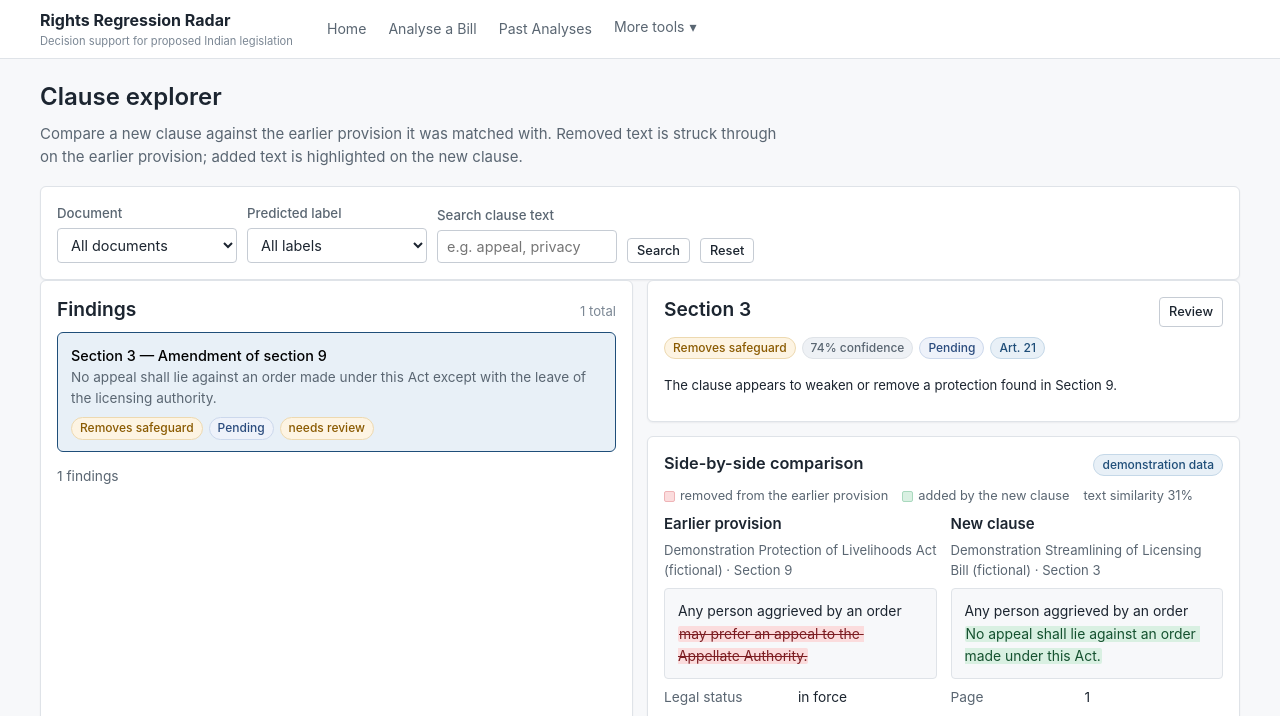
Test: clause explorer › filters by label and by search text
Check: the heading "Clause explorer" is shown, box [40,82,222,111]
Select "Conflicts" in the dropdown labelled "Predicted label" at {"x": 337, "y": 245}, box [247,228,427,263]
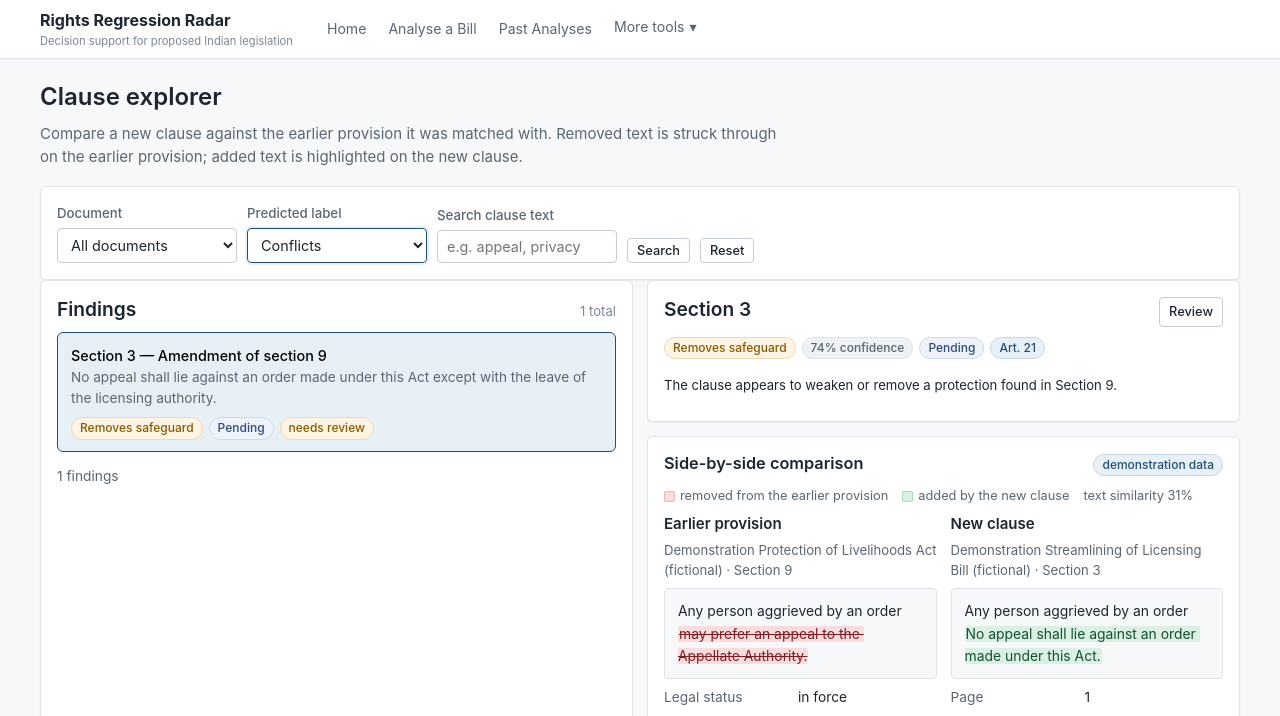
Type "zzzz-no-match" into the search field labelled "Search clause text".
click(527, 246); type("zzzz-no-match")  # box [437,230,617,263]
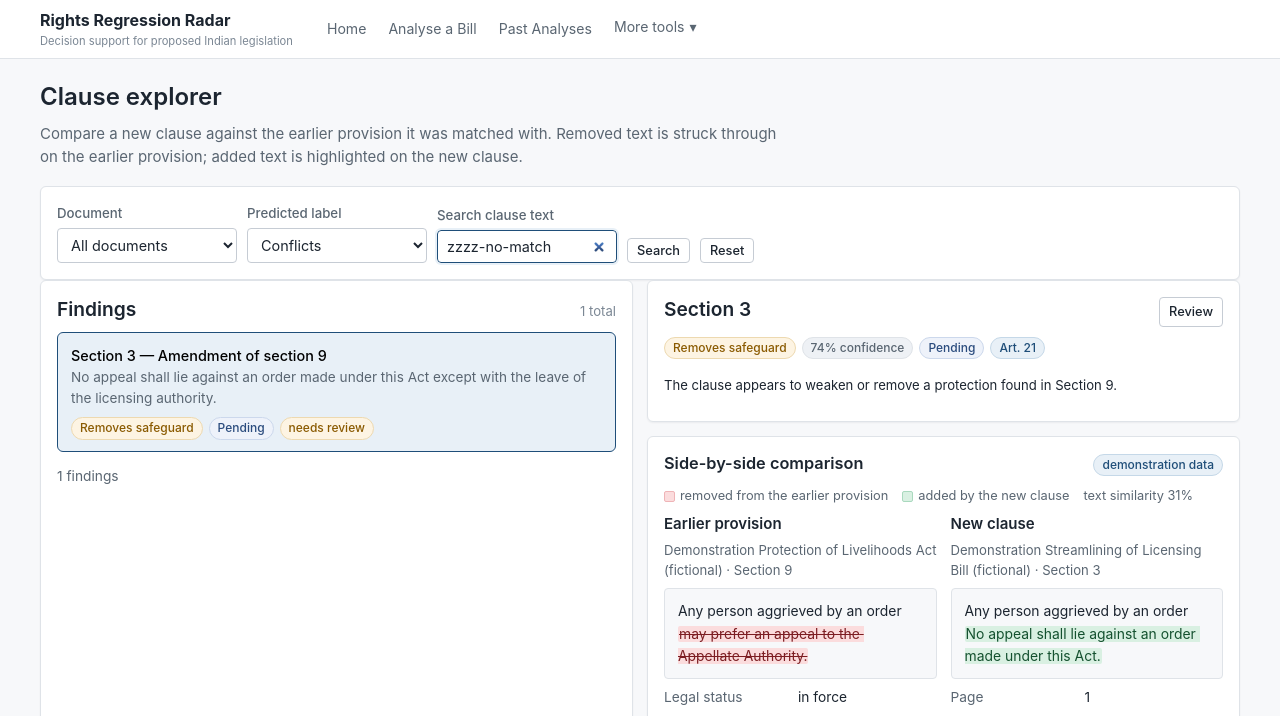
Click the button "Search".
click(658, 250)  # box [627,238,690,263]
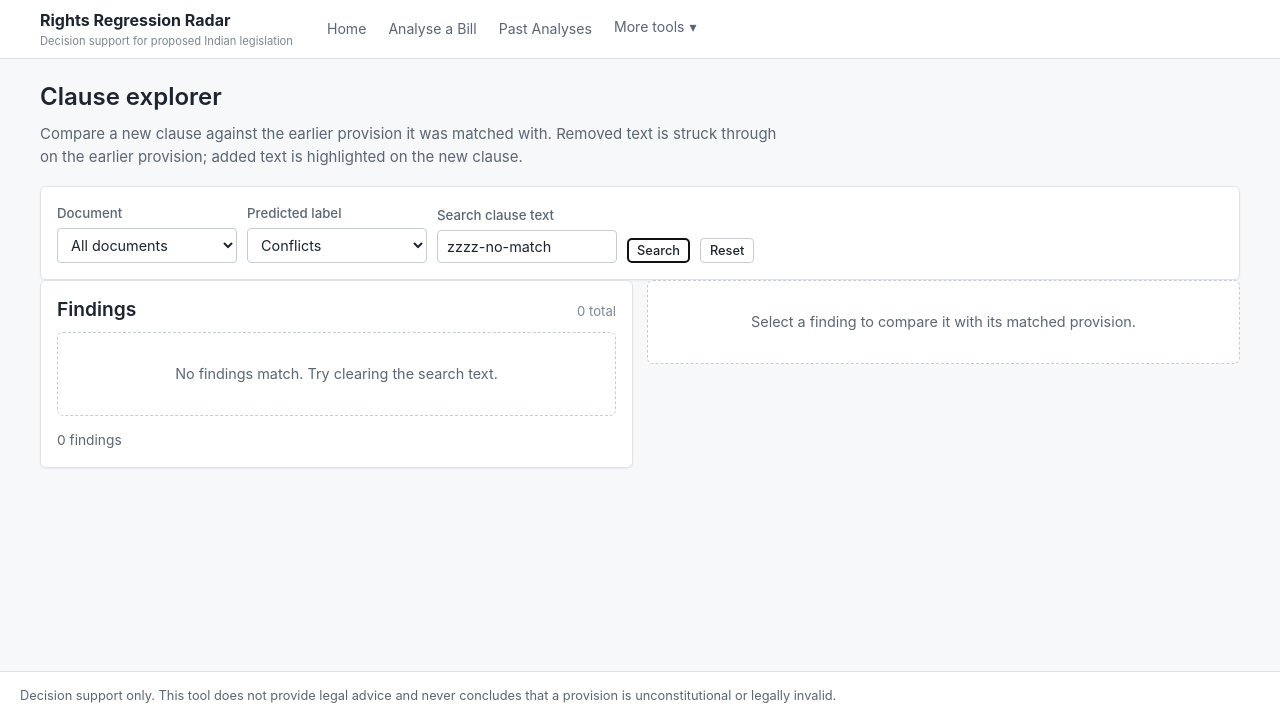
Check: the text "No findings match. Try clearing the search text." is shown, box [57,332,616,416]
